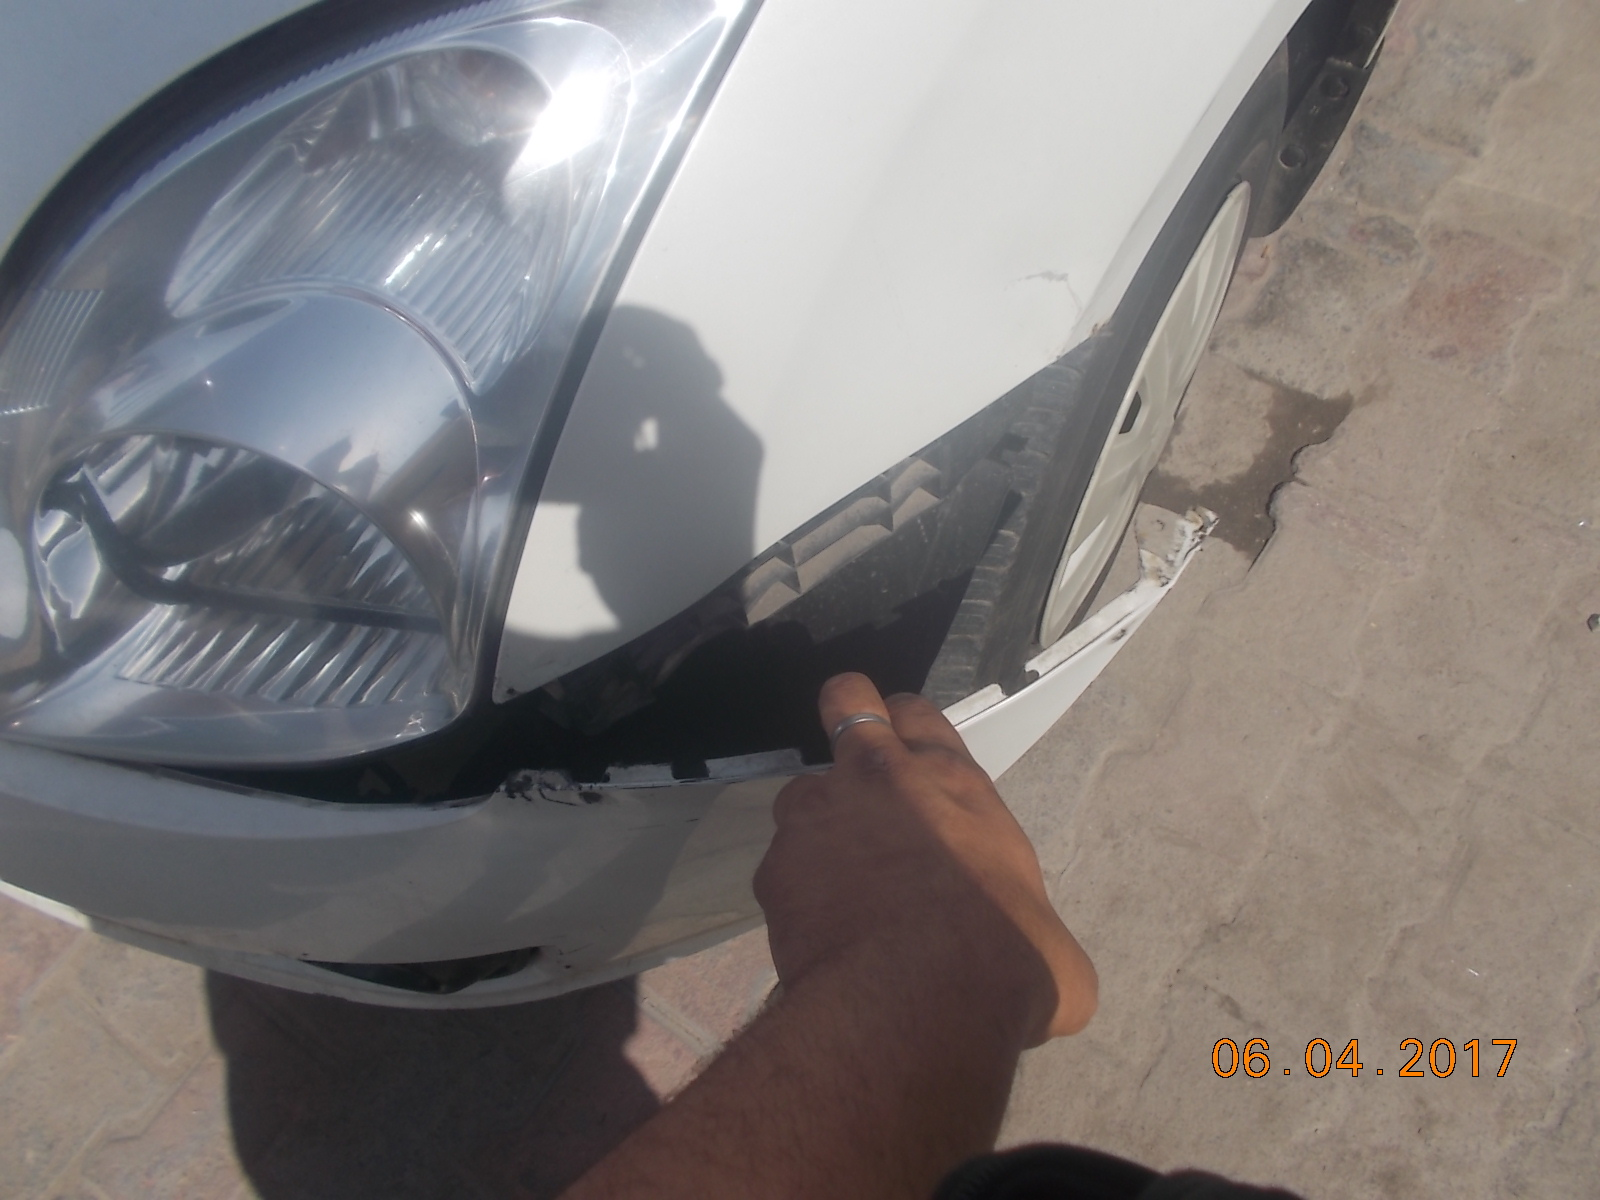Dislocation: (464, 533, 1168, 824)
